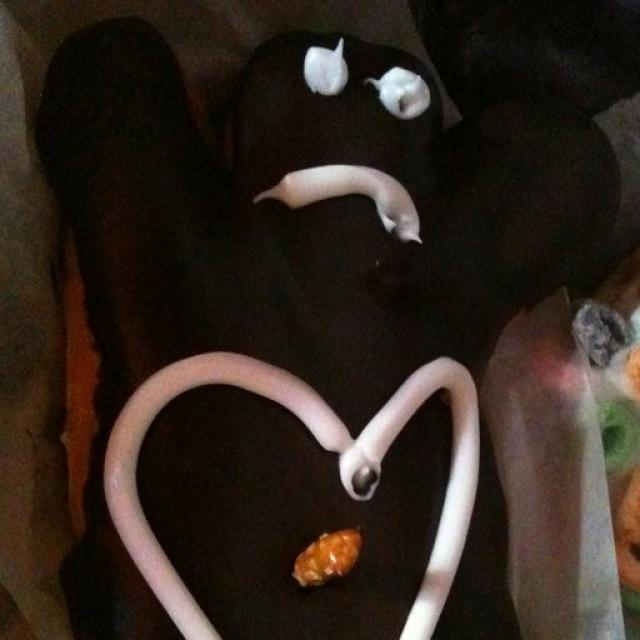Donuts: (83, 61, 598, 640)
